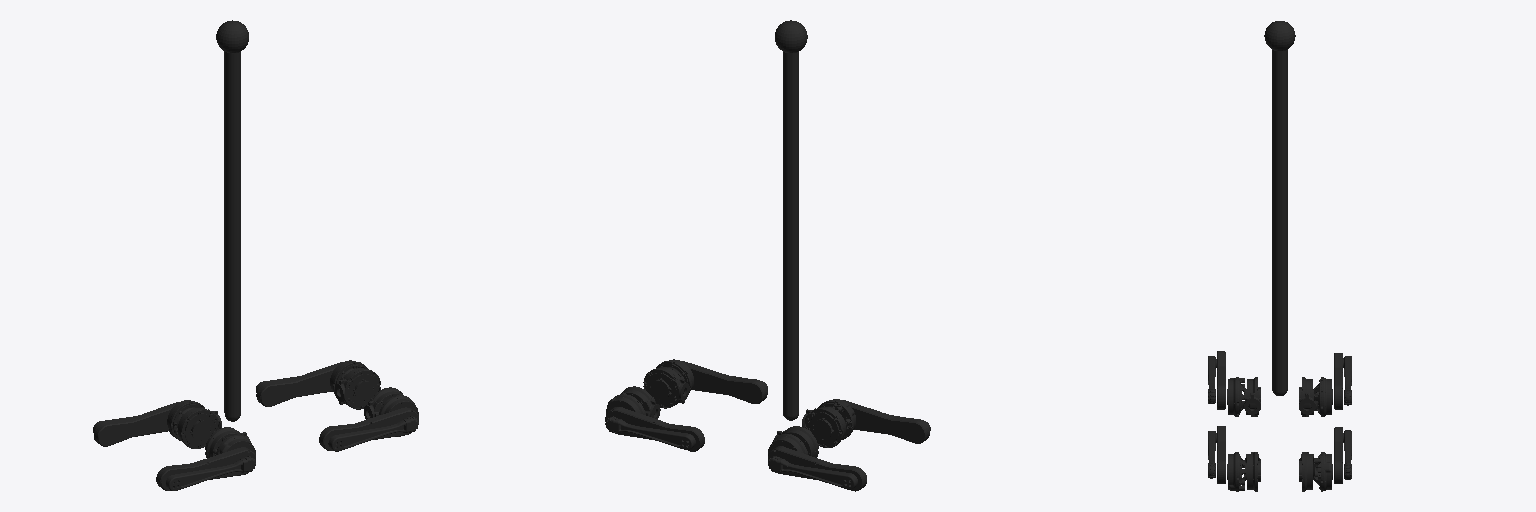
--- Render facts (derived) ---
Views: 3 orthographic renders of the robot side by side, from view 1: azimuth 30°, elevation 25°; view 2: azimuth 150°, elevation 25°; view 3: azimuth 270°, elevation 25°.
Robot: spirit — 20 links, 19 joints (14 revolute, 5 fixed); root link body; default pose: all joints at 0.
Visible links, largest first — view 1: tail_link_1, hip1, hip0, upper0, upper1, upper3, upper2, lower2, lower3, hip2, hip3, tail_mass; view 2: tail_link_1, hip3, hip2, upper3, upper2, upper1, upper0, lower0, lower1, hip0, hip1, tail_mass; view 3: tail_link_1, hip2, hip3, hip1, hip0, tail_mass, upper3.
Link boxes in pixels (x1,y1,x2,y2): tail_link_1: (224, 51, 240, 416); hip1: (167, 400, 221, 448); hip0: (330, 360, 380, 409); upper0: (256, 362, 341, 406); upper1: (94, 402, 178, 446); upper3: (156, 447, 255, 490); upper2: (319, 407, 418, 450); lower2: (328, 416, 418, 451); lower3: (166, 456, 255, 490); hip2: (364, 387, 418, 436); hip3: (205, 427, 255, 475); tail_mass: (216, 20, 248, 53); tail_link_1: (783, 52, 798, 415); hip3: (802, 399, 855, 447); hip2: (643, 359, 693, 408); upper3: (843, 400, 929, 443); upper2: (682, 361, 767, 403); upper1: (768, 446, 866, 491); upper0: (605, 407, 704, 451); lower0: (605, 416, 695, 449); lower1: (768, 456, 857, 489); hip0: (606, 386, 660, 418); hip1: (768, 426, 818, 457); tail_mass: (775, 20, 807, 52); tail_link_1: (1272, 50, 1287, 391); hip2: (1227, 452, 1260, 491); hip3: (1227, 377, 1260, 416); hip1: (1299, 377, 1332, 416); hip0: (1299, 452, 1332, 491); tail_mass: (1264, 21, 1295, 50); upper3: (1217, 351, 1225, 409).
Size in the robot's own frame: 0.7392 by 0.3719 by 1.14 metres.
12 mesh visuals loaded from 4 distinct referenced files (3 binary STL); not drawn: 1 (reference not matched to a file when rendering).

robot.urdf — spirit:
<?xml version="1.0" encoding="utf-8"?>
<!-- =================================================================================== -->
<!-- |    This document was autogenerated by xacro from spirit40_gaz.urdf.xacro        | -->
<!-- |    EDITING THIS FILE BY HAND IS NOT RECOMMENDED                                 | -->
<!-- =================================================================================== -->
<!--
 * Copyright (C) Ghost Robotics - All Rights Reserved
 * Unauthorized copying of this file, via any medium is strictly prohibited
 * Proprietary and confidential
 * Written by Avik De <[email redacted]> and Tom Jacobs <[email redacted]>
-->
<robot name="spirit">
  <!-- Define materials -->
  <material name="gray">
    <color rgba="0.2 0.2 0.2 1.0"/>
  </material>
  <material name="darkgray">
    <color rgba="0.1 0.1 0.1 1.0"/>
  </material>
  <material name="silver">
    <color rgba="0.3 0.3 0.3 1.0"/>
  </material>
  <material name="red">
    <color rgba="0.8 0.0 0.2 1.0"/>
  </material>
  <!-- Body -->
  <link name="body">
    <!--		<visual>-->
    <!--			<origin rpy="0 0 0" xyz="0 0 0"/>-->
    <!--			<geometry>-->
    <!--				<box size="${bodyLength} ${bodyWidth} ${bodyHeight}"/>-->
    <!--			</geometry>-->
    <!--			<material name="darkgray"/>-->
    <!--		</visual>-->
    <visual>
      <origin rpy="0 0 0" xyz="0.03 0 0"/>
      <geometry>
        <mesh filename="package://spirit_description/meshes/Spirit40_Body_Mesh_transformed.stl" scale="1 1 1"/>
      </geometry>
      <material name="gray"/>
    </visual>
    <inertial>
      <mass value="5.75"/>
      <!-- Uniform box -->
      <!-- <inertia ixx="1/12*${bodyMass}*(${bodyWidth}*${bodyWidth} + ${bodyHeight}*${bodyHeight})"  ixy="0"  ixz="0" iyy="1/12*${bodyMass}*(${bodyLength}*${bodyLength} + ${bodyHeight}*${bodyHeight})" iyz="0" izz="1/12*${bodyMass}*(${bodyLength}*${bodyLength} + ${bodyWidth}*${bodyWidth})"/> -->
      <inertia ixx="0.05" ixy="0" ixz="0" iyy="0.1" iyz="0" izz="0.1"/>
    </inertial>
    <!-- Just copy geometry for collision -->
    <collision>
      <origin rpy="0 0 0" xyz="0 0 0"/>
      <geometry>
        <box size="0.335 0.24 0.104"/>
      </geometry>
    </collision>
  </link>
  <gazebo reference="body">
    <gravity>true</gravity>
    <sensor name="imu_sensor" type="imu">
      <always_on>true</always_on>
      <visualize>true</visualize>
      <topic>__default_topic_</topic>
      <plugin filename="libgazebo_ros_imu_sensor.so" name="imu_plugin">
        <topicName>imu</topicName>
        <bodyName>body</bodyName>
        <updateRateHZ>500.0</updateRateHZ>
        <gaussianNoise>0.0</gaussianNoise>
        <xyzOffset>0 0 0</xyzOffset>
        <rpyOffset>0 0 0</rpyOffset>
        <frameName>body</frameName>
        <initialOrientationAsReference>true</initialOrientationAsReference>
      </plugin>
      <pose>0 0 0 0 0 0</pose>
    </sensor>
  </gazebo>
  <!-- Hip motor -->
  <link name="hip0">
    <!--			<visual>-->
    <!--				<origin rpy="${pi/2} 0 0" xyz="${front * 0} ${left * (dPodAxisToEdge)} 0"/>-->
    <!--				<geometry>-->
    <!--					<cylinder length="${podLength}" radius="${podRadius}"/>-->
    <!--				</geometry>-->
    <!--				<material name="${color}"/>-->
    <!--			</visual>-->
    <visual>
      <origin rpy="0 0 0" xyz="0 0.0 0"/>
      <geometry>
        <mesh filename="package://spirit_description/meshes/Spirit40_Hip_Module_transformed.stl" scale="1 1 1"/>
      </geometry>
      <material name="gray"/>
    </visual>
    <collision>
      <origin rpy="1.5707963268 0 0" xyz="0 0.028 0"/>
      <geometry>
        <cylinder length="0.08" radius="0.055"/>
      </geometry>
    </collision>
    <inertial>
      <mass value="0.575"/>
      <!-- <inertia ixx="1/12*${podMass}*${podLength}*${podLength} + 1/4*${podMass}*${podRadius}*${podRadius}"  ixy="0"  ixz="0" iyy="1/12*${podMass}*${podLength}*${podLength} + 1/4*${podMass}*${podRadius}*${podRadius}" iyz="0" izz="1/2*${podMass}*${podRadius}*$
				{podRadius}" /> -->
      <inertia ixx="0.00066963541" ixy="0" ixz="0" iyy="0.00066963541" iyz="0" izz="0.0008696875"/>
    </inertial>
  </link>
  <gazebo reference="hip0">
    <material>Gazebo/Gray</material>
  </gazebo>
  <!-- Abduction joint. Joint names are: 8 9 10 11 -->
  <joint name="8" type="revolute">
    <parent link="body"/>
    <child link="hip0"/>
    <axis xyz="1 0 0"/>
    <origin xyz="0.2263 0.07 0"/>
    <limit effort="40" lower="-0.707" upper="0.707" velocity="30"/>
    <dynamics damping="0.0" friction="0.0"/>
  </joint>
  <!-- Transmission elements required for Gazebo -->
  <transmission name="transmission_8">
    <type>transmission_interface/SimpleTransmission</type>
    <joint name="8">
      <hardwareInterface>hardware_interface/EffortJointInterface</hardwareInterface>
    </joint>
    <actuator name="motor_8">
      <hardwareInterface>EffortJointInterface</hardwareInterface>
      <mechanicalReduction>1</mechanicalReduction>
    </actuator>
  </transmission>
  <!-- Upper leg -->
  <link name="upper0">
    <!--			<visual>-->
    <!--				<origin rpy="0 0 0" xyz="-${upperLegLength/2} ${-left*upperLegWidth} 0"/>-->
    <!--				<geometry>-->
    <!--					<box size="${upperLegLength} ${upperLegWidth} ${upperLegHeight}"/>-->
    <!--				</geometry>-->
    <!--				<material name="silver"/>-->
    <!--			</visual>-->
    <visual>
      <origin rpy="0 0  0" xyz="0 -0.02 0"/>
      <geometry>
        <mesh filename="package://spirit_description/meshes/Spirit40_Upper_leg_transformed.stl" scale="1 1 1"/>
      </geometry>
      <material name="gray"/>
    </visual>
    <collision>
      <origin rpy="0 0 0" xyz="-0.103 -0.022 0"/>
      <geometry>
        <box size="0.206 0.022 0.055"/>
      </geometry>
    </collision>
    <inertial>
      <mass value="0.775"/>
      <inertia ixx="5e-05" ixy="0" ixz="0" iyy="0.001" iyz="0" izz="0.001"/>
    </inertial>
  </link>
  <gazebo reference="upper0">
    <material>Gazebo/Gray</material>
  </gazebo>
  <!-- Hip joint. (Motor to upper leg). Joint names are: 0 2 4 6 -->
  <joint name="0" type="revolute">
    <parent link="hip0"/>
    <child link="upper0"/>
    <axis xyz="0 -1 0"/>
    <origin xyz="0 0.10098 0"/>
    <!--  rpy="0 -0.3 0" -->
    <limit effort="40" lower="-6.28318530718" upper="6.28318530718" velocity="30"/>
    <dynamics damping="0.0" friction="0.0"/>
  </joint>
  <!-- Transmission elements required for Gazebo -->
  <transmission name="transmission_0">
    <type>transmission_interface/SimpleTransmission</type>
    <joint name="0">
      <hardwareInterface>hardware_interface/EffortJointInterface</hardwareInterface>
    </joint>
    <actuator name="motor_0">
      <hardwareInterface>EffortJointInterface</hardwareInterface>
      <mechanicalReduction>1</mechanicalReduction>
    </actuator>
  </transmission>
  <!-- Lower leg -->
  <link name="lower0">
    <!--			<visual>-->
    <!--				<origin rpy="0 ${pi/2} 0" xyz="${lowerLegLength/2} 0 0"/>-->
    <!--				<geometry>-->
    <!--					<cylinder length="${lowerLegLength}" radius="${lowerLegRadius}"/>-->
    <!--				</geometry>-->
    <!--				<material name="darkgray"/>-->
    <!--			</visual>-->
    <visual>
      <origin rpy="0 0  0" xyz="0 0 0"/>
      <geometry>
        <mesh filename="package://spirit_description/meshes/Spirit40_Lower_Leg_transformed.stl" scale="1 1 1"/>
      </geometry>
      <material name="gray"/>
    </visual>
    <collision>
      <origin rpy="0 1.5707963268 0" xyz="0.103 0 0"/>
      <geometry>
        <cylinder length="0.206" radius="0.013"/>
      </geometry>
    </collision>
    <inertial>
      <mass value="0.075"/>
      <inertia ixx="5e-06" ixy="0" ixz="0" iyy="0.0001" iyz="0" izz="0.0001"/>
    </inertial>
  </link>
  <gazebo reference="lower0">
    <material>Gazebo/Black</material>
  </gazebo>
  <!-- Knee joint. Joint names are: 1 3 5 7 -->
  <joint name="1" type="revolute">
    <parent link="upper0"/>
    <child link="lower0"/>
    <axis xyz="0 1 0"/>
    <origin xyz="-0.206 0 0"/>
    <!--rpy="0 0.5 0"-->
    <limit effort="40" lower="0" upper="3.14159265359" velocity="30"/>
    <dynamics damping="0.0" friction="0.0"/>
  </joint>
  <!-- Transmission elements required for Gazebo -->
  <transmission name="transmission_1">
    <type>transmission_interface/SimpleTransmission</type>
    <joint name="1">
      <hardwareInterface>hardware_interface/EffortJointInterface</hardwareInterface>
    </joint>
    <actuator name="motor_1">
      <hardwareInterface>EffortJointInterface</hardwareInterface>
      <mechanicalReduction>1</mechanicalReduction>
    </actuator>
  </transmission>
  <!-- Toe -->
  <link name="toe0">
    <contact>
      <friction_anchor/>
      <stiffness value="30000.0"/>
      <damping value="1000.0"/>
      <spinning_friction value="0.3"/>
      <lateral_friction value="50.0"/>
    </contact>
    <visual>
      <origin rpy="0 0 0" xyz="0 0 0"/>
      <geometry>
        <!--					<sphere radius="${toeRadius}"/>-->
        <sphere radius="0.001"/>
      </geometry>
      <material name="darkgray"/>
    </visual>
    <collision>
      <origin rpy="0 0 0" xyz="0 0 0"/>
      <geometry>
        <sphere radius="0.02"/>
      </geometry>
      <surface>
        <friction>
          <ode>
            <mu>100000</mu>
            <mu2>100000</mu2>
          </ode>
        </friction>
        <contact>
          <ode>
            <kp>30000.0</kp>
            <kd>1000.0</kd>
          </ode>
        </contact>
      </surface>
    </collision>
    <inertial>
      <mass value="0.015"/>
      <inertia ixx="0.000025" ixy="0" ixz="0" iyy="0.000025" iyz="0" izz="0.000025"/>
      <!-- <inertia ixx="2/5*${toeMass}*${toeRadius}*${toeRadius}"  ixy="0"  ixz="0" iyy="2/5*${toeMass}*${toeRadius}*${toeRadius}" iyz="0" izz="2/5*${toeMass}*${toeRadius}*${toeRadius}" /> -->
    </inertial>
  </link>
  <gazebo reference="toe0">
    <material>Gazebo/DarkGray</material>
    <collision>
      <surface>
        <bounce>
          <restitution_coefficient>0</restitution_coefficient>
          <threshold>1e+06</threshold>
        </bounce>
        <friction>
          <torsional>
            <coefficient>0.3</coefficient>
          </torsional>
          <ode>
            <mu>100.0</mu>
            <mu2>50.0</mu2>
          </ode>
          <bullet>
            <rolling_friction>0.3</rolling_friction>
            <friction2>50.0</friction2>
          </bullet>
        </friction>
        <contact>
          <bullet>
            <kp>30000.0</kp>
            <kd>1000.0</kd>
          </bullet>
          <ode>
            <kp>30000.0</kp>
            <kd>1000.0</kd>
          </ode>
        </contact>
      </surface>
    </collision>
  </gazebo>
  <joint name="jtoe0" type="fixed">
    <parent link="lower0"/>
    <child link="toe0"/>
    <origin xyz="0.206 0 -0.0"/>
    <dynamics damping="0.0" friction="0.0"/>
  </joint>
  <!-- Hip motor -->
  <link name="hip1">
    <!--			<visual>-->
    <!--				<origin rpy="${pi/2} 0 0" xyz="${front * 0} ${left * (dPodAxisToEdge)} 0"/>-->
    <!--				<geometry>-->
    <!--					<cylinder length="${podLength}" radius="${podRadius}"/>-->
    <!--				</geometry>-->
    <!--				<material name="${color}"/>-->
    <!--			</visual>-->
    <visual>
      <origin rpy="0 3.14159265359 0" xyz="0.0 0.0 0"/>
      <geometry>
        <mesh filename="package://spirit_description/meshes/Spirit40_Hip_Module_transformed.stl" scale="1 1 1"/>
      </geometry>
      <material name="gray"/>
    </visual>
    <collision>
      <origin rpy="1.5707963268 0 0" xyz="0 0.028 0"/>
      <geometry>
        <cylinder length="0.08" radius="0.055"/>
      </geometry>
    </collision>
    <inertial>
      <mass value="0.575"/>
      <!-- <inertia ixx="1/12*${podMass}*${podLength}*${podLength} + 1/4*${podMass}*${podRadius}*${podRadius}"  ixy="0"  ixz="0" iyy="1/12*${podMass}*${podLength}*${podLength} + 1/4*${podMass}*${podRadius}*${podRadius}" iyz="0" izz="1/2*${podMass}*${podRadius}*$
				{podRadius}" /> -->
      <inertia ixx="0.00066963541" ixy="0" ixz="0" iyy="0.00066963541" iyz="0" izz="0.0008696875"/>
    </inertial>
  </link>
  <gazebo reference="hip1">
    <material>Gazebo/Gray</material>
  </gazebo>
  <!-- Abduction joint. Joint names are: 8 9 10 11 -->
  <joint name="9" type="revolute">
    <parent link="body"/>
    <child link="hip1"/>
    <axis xyz="1 0 0"/>
    <origin xyz="-0.2263 0.07 0"/>
    <limit effort="40" lower="-0.707" upper="0.707" velocity="30"/>
    <dynamics damping="0.0" friction="0.0"/>
  </joint>
  <!-- Transmission elements required for Gazebo -->
  <transmission name="transmission_9">
    <type>transmission_interface/SimpleTransmission</type>
    <joint name="9">
      <hardwareInterface>hardware_interface/EffortJointInterface</hardwareInterface>
    </joint>
    <actuator name="motor_9">
      <hardwareInterface>EffortJointInterface</hardwareInterface>
      <mechanicalReduction>1</mechanicalReduction>
    </actuator>
  </transmission>
  <!-- Upper leg -->
  <link name="upper1">
    <!--			<visual>-->
    <!--				<origin rpy="0 0 0" xyz="-${upperLegLength/2} ${-left*upperLegWidth} 0"/>-->
    <!--				<geometry>-->
    <!--					<box size="${upperLegLength} ${upperLegWidth} ${upperLegHeight}"/>-->
    <!--				</geometry>-->
    <!--				<material name="silver"/>-->
    <!--			</visual>-->
    <visual>
      <origin rpy="0 0  0" xyz="0 -0.02 0"/>
      <geometry>
        <mesh filename="package://spirit_description/meshes/Spirit40_Upper_leg_transformed.stl" scale="1 1 1"/>
      </geometry>
      <material name="gray"/>
    </visual>
    <collision>
      <origin rpy="0 0 0" xyz="-0.103 -0.022 0"/>
      <geometry>
        <box size="0.206 0.022 0.055"/>
      </geometry>
    </collision>
    <inertial>
      <mass value="0.775"/>
      <inertia ixx="5e-05" ixy="0" ixz="0" iyy="0.001" iyz="0" izz="0.001"/>
    </inertial>
  </link>
  <gazebo reference="upper1">
    <material>Gazebo/Gray</material>
  </gazebo>
  <!-- Hip joint. (Motor to upper leg). Joint names are: 0 2 4 6 -->
  <joint name="2" type="revolute">
    <parent link="hip1"/>
    <child link="upper1"/>
    <axis xyz="0 -1 0"/>
    <origin xyz="0 0.10098 0"/>
    <!--  rpy="0 -0.3 0" -->
    <limit effort="40" lower="-6.28318530718" upper="6.28318530718" velocity="30"/>
    <dynamics damping="0.0" friction="0.0"/>
  </joint>
  <!-- Transmission elements required for Gazebo -->
  <transmission name="transmission_2">
    <type>transmission_interface/SimpleTransmission</type>
    <joint name="2">
      <hardwareInterface>hardware_interface/EffortJointInterface</hardwareInterface>
    </joint>
    <actuator name="motor_2">
      <hardwareInterface>EffortJointInterface</hardwareInterface>
      <mechanicalReduction>1</mechanicalReduction>
    </actuator>
  </transmission>
  <!-- Lower leg -->
  <link name="lower1">
    <!--			<visual>-->
    <!--				<origin rpy="0 ${pi/2} 0" xyz="${lowerLegLength/2} 0 0"/>-->
    <!--				<geometry>-->
    <!--					<cylinder length="${lowerLegLength}" radius="${lowerLegRadius}"/>-->
    <!--				</geometry>-->
    <!--				<material name="darkgray"/>-->
    <!--			</visual>-->
    <visual>
      <origin rpy="0 0  0" xyz="0 0 0"/>
      <geometry>
        <mesh filename="package://spirit_description/meshes/Spirit40_Lower_Leg_transformed.stl" scale="1 1 1"/>
      </geometry>
      <material name="gray"/>
    </visual>
    <collision>
      <origin rpy="0 1.5707963268 0" xyz="0.103 0 0"/>
      <geometry>
        <cylinder length="0.206" radius="0.013"/>
      </geometry>
    </collision>
    <inertial>
      <mass value="0.075"/>
      <inertia ixx="5e-06" ixy="0" ixz="0" iyy="0.0001" iyz="0" izz="0.0001"/>
    </inertial>
  </link>
  <gazebo reference="lower1">
    <material>Gazebo/Black</material>
  </gazebo>
  <!-- Knee joint. Joint names are: 1 3 5 7 -->
  <joint name="3" type="revolute">
    <parent link="upper1"/>
    <child link="lower1"/>
    <axis xyz="0 1 0"/>
    <origin xyz="-0.206 0 0"/>
    <!--rpy="0 0.5 0"-->
    <limit effort="40" lower="0" upper="3.14159265359" velocity="30"/>
    <dynamics damping="0.0" friction="0.0"/>
  </joint>
  <!-- Transmission elements required for Gazebo -->
  <transmission name="transmission_3">
    <type>transmission_interface/SimpleTransmission</type>
    <joint name="3">
      <hardwareInterface>hardware_interface/EffortJointInterface</hardwareInterface>
    </joint>
    <actuator name="motor_3">
      <hardwareInterface>EffortJointInterface</hardwareInterface>
      <mechanicalReduction>1</mechanicalReduction>
    </actuator>
  </transmission>
  <!-- Toe -->
  <link name="toe1">
    <contact>
      <friction_anchor/>
      <stiffness value="30000.0"/>
      <damping value="1000.0"/>
      <spinning_friction value="0.3"/>
      <lateral_friction value="50.0"/>
    </contact>
    <visual>
      <origin rpy="0 0 0" xyz="0 0 0"/>
      <geometry>
        <!--					<sphere radius="${toeRadius}"/>-->
        <sphere radius="0.001"/>
      </geometry>
      <material name="darkgray"/>
    </visual>
    <collision>
      <origin rpy="0 0 0" xyz="0 0 0"/>
      <geometry>
        <sphere radius="0.02"/>
      </geometry>
      <surface>
        <friction>
          <ode>
            <mu>100000</mu>
            <mu2>100000</mu2>
          </ode>
        </friction>
        <contact>
          <ode>
            <kp>30000.0</kp>
            <kd>1000.0</kd>
          </ode>
        </contact>
      </surface>
    </collision>
    <inertial>
      <mass value="0.015"/>
      <inertia ixx="0.000025" ixy="0" ixz="0" iyy="0.000025" iyz="0" izz="0.000025"/>
      <!-- <inertia ixx="2/5*${toeMass}*${toeRadius}*${toeRadius}"  ixy="0"  ixz="0" iyy="2/5*${toeMass}*${toeRadius}*${toeRadius}" iyz="0" izz="2/5*${toeMass}*${toeRadius}*${toeRadius}" /> -->
    </inertial>
  </link>
  <gazebo reference="toe1">
    <material>Gazebo/DarkGray</material>
    <collision>
      <surface>
        <bounce>
          <restitution_coefficient>0</restitution_coefficient>
          <threshold>1e+06</threshold>
        </bounce>
        <friction>
          <torsional>
            <coefficient>0.3</coefficient>
          </torsional>
          <ode>
            <mu>100.0</mu>
            <mu2>50.0</mu2>
          </ode>
          <bullet>
            <rolling_friction>0.3</rolling_friction>
            <friction2>50.0</friction2>
          </bullet>
        </friction>
        <contact>
          <bullet>
            <kp>30000.0</kp>
            <kd>1000.0</kd>
          </bullet>
          <ode>
            <kp>30000.0</kp>
            <kd>1000.0</kd>
          </ode>
        </contact>
      </surface>
    </collision>
  </gazebo>
  <joint name="jtoe1" type="fixed">
    <parent link="lower1"/>
    <child link="toe1"/>
    <origin xyz="0.206 0 -0.0"/>
    <dynamics damping="0.0" friction="0.0"/>
  </joint>
  <!-- Hip motor -->
  <link name="hip2">
    <!--			<visual>-->
    <!--				<origin rpy="${pi/2} 0 0" xyz="${front * 0} ${left * (dPodAxisToEdge)} 0"/>-->
    <!--				<geometry>-->
    <!--					<cylinder length="${podLength}" radius="${podRadius}"/>-->
    <!--				</geometry>-->
    <!--				<material name="${color}"/>-->
    <!--			</visual>-->
    <visual>
      <origin rpy="3.14159265359 0 0" xyz="0.0 0 0.0"/>
      <geometry>
        <mesh filename="package://spirit_description/meshes/Spirit40_Hip_Module_transformed.stl" scale="1 1 1"/>
      </geometry>
      <material name="gray"/>
    </visual>
    <collision>
      <origin rpy="1.5707963268 0 0" xyz="0 -0.028 0"/>
      <geometry>
        <cylinder length="0.08" radius="0.055"/>
      </geometry>
    </collision>
    <inertial>
      <mass value="0.575"/>
      <!-- <inertia ixx="1/12*${podMass}*${podLength}*${podLength} + 1/4*${podMass}*${podRadius}*${podRadius}"  ixy="0"  ixz="0" iyy="1/12*${podMass}*${podLength}*${podLength} + 1/4*${podMass}*${podRadius}*${podRadius}" iyz="0" izz="1/2*${podMass}*${podRadius}*$
				{podRadius}" /> -->
      <inertia ixx="0.00066963541" ixy="0" ixz="0" iyy="0.00066963541" iyz="0" izz="0.0008696875"/>
    </inertial>
  </link>
  <gazebo reference="hip2">
    <material>Gazebo/Gray</material>
  </gazebo>
  <!-- Abduction joint. Joint names are: 8 9 10 11 -->
  <joint name="10" type="revolute">
    <parent link="body"/>
    <child link="hip2"/>
    <axis xyz="1 0 0"/>
    <origin xyz="0.2263 -0.07 0"/>
    <limit effort="40" lower="-0.707" upper="0.707" velocity="30"/>
    <dynamics damping="0.0" friction="0.0"/>
  </joint>
  <!-- Transmission elements required for Gazebo -->
  <transmission name="transmission_10">
    <type>transmission_interface/SimpleTransmission</type>
    <joint name="10">
      <hardwareInterface>hardware_interface/EffortJointInterface</hardwareInterface>
    </joint>
    <actuator name="motor_10">
      <hardwareInterface>EffortJointInterface</hardwareInterface>
      <mechanicalReduction>1</mechanicalReduction>
    </actuator>
  </transmission>
  <!-- Upper leg -->
  <link name="upper2">
    <!--			<visual>-->
    <!--				<origin rpy="0 0 0" xyz="-${upperLegLength/2} ${-left*upperLegWidth} 0"/>-->
    <!--				<geometry>-->
    <!--					<box size="${upperLegLength} ${upperLegWidth} ${upperLegHeight}"/>-->
    <!--				</geometry>-->
    <!--				<material name="silver"/>-->
    <!--			</visual>-->
    <visual>
      <origin rpy="3.14159265359 0  0" xyz="0 0.02 0"/>
      <geometry>
        <mesh filename="package://spirit_description/meshes/Spirit40_Upper_leg_transformed.stl" scale="1 1 1"/>
      </geometry>
      <material name="gray"/>
    </visual>
    <collision>
      <origin rpy="0 0 0" xyz="-0.103 0.022 0"/>
      <geometry>
        <box size="0.206 0.022 0.055"/>
      </geometry>
    </collision>
    <inertial>
      <mass value="0.775"/>
      <inertia ixx="5e-05" ixy="0" ixz="0" iyy="0.001" iyz="0" izz="0.001"/>
    </inertial>
  </link>
  <gazebo reference="upper2">
    <material>Gazebo/Gray</material>
  </gazebo>
  <!-- Hip joint. (Motor to upper leg). Joint names are: 0 2 4 6 -->
  <joint name="4" type="revolute">
    <parent link="hip2"/>
    <child link="upper2"/>
    <axis xyz="0 -1 0"/>
    <origin xyz="0 -0.10098 0"/>
    <!--  rpy="0 -0.3 0" -->
    <limit effort="40" lower="-6.28318530718" upper="6.28318530718" velocity="30"/>
    <dynamics damping="0.0" friction="0.0"/>
  </joint>
  <!-- Transmission elements required for Gazebo -->
  <transmission name="transmission_4">
    <type>transmission_interface/SimpleTransmission</type>
    <joint name="4">
      <hardwareInterface>hardware_interface/EffortJointInterface</hardwareInterface>
    </joint>
    <actuator name="motor_4">
      <hardwareInterface>EffortJointInterface</hardwareInterface>
      <mechanicalReduction>1</mechanicalReduction>
    </actuator>
  </transmission>
  <!-- Lower leg -->
  <link name="lower2">
    <!--			<visual>-->
    <!--				<origin rpy="0 ${pi/2} 0" xyz="${lowerLegLength/2} 0 0"/>-->
    <!--				<geometry>-->
    <!--					<cylinder length="${lowerLegLength}" radius="${lowerLegRadius}"/>-->
    <!--				</geometry>-->
    <!--				<material name="darkgray"/>-->
    <!--			</visual>-->
    <visual>
      <origin rpy="3.14159265359 0  0" xyz="0 0 0"/>
      <geometry>
        <mesh filename="package://spirit_description/meshes/Spirit40_Lower_Leg_transformed.stl" scale="1 1 1"/>
      </geometry>
      <material name="gray"/>
    </visual>
    <collision>
      <origin rpy="0 1.5707963268 0" xyz="0.103 0 0"/>
      <geometry>
        <cylinder length="0.206" radius="0.013"/>
      </geometry>
    </collision>
    <inertial>
      <mass value="0.075"/>
      <inertia ixx="5e-06" ixy="0" ixz="0" iyy="0.0001" iyz="0" izz="0.0001"/>
    </inertial>
  </link>
  <gazebo reference="lower2">
    <material>Gazebo/Black</material>
  </gazebo>
  <!-- Knee joint. Joint names are: 1 3 5 7 -->
  <joint name="5" type="revolute">
    <parent link="upper2"/>
    <child link="lower2"/>
    <axis xyz="0 1 0"/>
    <origin xyz="-0.206 0 0"/>
    <!--rpy="0 0.5 0"-->
    <limit effort="40" lower="0" upper="3.14159265359" velocity="30"/>
    <dynamics damping="0.0" friction="0.0"/>
  </joint>
  <!-- Transmission elements required for Gazebo -->
  <transmission name="transmission_5">
    <type>transmission_interface/SimpleTransmission</type>
    <joint name="5">
      <hardwareInterface>hardware_interface/EffortJointInterface</hardwareInterface>
    </joint>
    <actuator name="motor_5">
      <hardwareInterface>EffortJointInterface</hardwareInterface>
      <mechanicalReduction>1</mechanicalReduction>
    </actuator>
  </transmission>
  <!-- Toe -->
  <link name="toe2">
    <contact>
      <friction_anchor/>
      <stiffness value="30000.0"/>
      <damping value="1000.0"/>
      <spinning_friction value="0.3"/>
      <lateral_friction value="50.0"/>
    </contact>
    <visual>
      <origin rpy="0 0 0" xyz="0 0 0"/>
      <geometry>
        <!--					<sphere radius="${toeRadius}"/>-->
        <sphere radius="0.001"/>
      </geometry>
      <material name="darkgray"/>
    </visual>
    <collision>
      <origin rpy="0 0 0" xyz="0 0 0"/>
      <geometry>
        <sphere radius="0.02"/>
      </geometry>
      <surface>
        <friction>
          <ode>
            <mu>100000</mu>
            <mu2>100000</mu2>
          </ode>
        </friction>
        <contact>
          <ode>
            <kp>30000.0</kp>
            <kd>1000.0</kd>
          </ode>
        </contact>
      </surface>
    </collision>
    <inertial>
      <mass value="0.015"/>
      <inertia ixx="0.000025" ixy="0" ixz="0" iyy="0.000025" iyz="0" izz="0.000025"/>
      <!-- <inertia ixx="2/5*${toeMass}*${toeRadius}*${toeRadius}"  ixy="0"  ixz="0" iyy="2/5*${toeMass}*${toeRadius}*${toeRadius}" iyz="0" izz="2/5*${toeMass}*${toeRadius}*${toeRadius}" /> -->
    </inertial>
  </link>
  <gazebo reference="toe2">
    <material>Gazebo/DarkGray</material>
    <collision>
      <surface>
        <bounce>
          <restitution_coefficient>0</restitution_coefficient>
          <threshold>1e+06</threshold>
        </bounce>
        <friction>
          <torsional>
            <coefficient>0.3</coefficient>
          </torsional>
          <ode>
            <mu>100.0</mu>
            <mu2>50.0</mu2>
          </ode>
          <bullet>
            <rolling_friction>0.3</rolling_friction>
            <friction2>50.0</friction2>
          </bullet>
        </friction>
        <contact>
          <bullet>
            <kp>30000.0</kp>
            <kd>1000.0</kd>
          </bullet>
          <ode>
            <kp>30000.0</kp>
            <kd>1000.0</kd>
          </ode>
        </contact>
      </surface>
    </collision>
  </gazebo>
  <joint name="jtoe2" type="fixed">
    <parent link="lower2"/>
    <child link="toe2"/>
    <origin xyz="0.206 0 -0.0"/>
    <dynamics damping="0.0" friction="0.0"/>
  </joint>
  <!-- Hip motor -->
  <link name="hip3">
    <!--			<visual>-->
    <!--				<origin rpy="${pi/2} 0 0" xyz="${front * 0} ${left * (dPodAxisToEdge)} 0"/>-->
    <!--				<geometry>-->
    <!--					<cylinder length="${podLength}" radius="${podRadius}"/>-->
    <!--				</geometry>-->
    <!--				<material name="${color}"/>-->
    <!--			</visual>-->
    <visual>
      <origin rpy="3.14159265359 3.14159265359 0" xyz="0.0 0.0 0.0"/>
      <geometry>
        <mesh filename="package://spirit_description/meshes/Spirit40_Hip_Module_transformed.stl" scale="1 1 1"/>
      </geometry>
      <material name="gray"/>
    </visual>
    <collision>
      <origin rpy="1.5707963268 0 0" xyz="0 -0.028 0"/>
      <geometry>
        <cylinder length="0.08" radius="0.055"/>
      </geometry>
    </collision>
    <inertial>
      <mass value="0.575"/>
      <!-- <inertia ixx="1/12*${podMass}*${podLength}*${podLength} + 1/4*${podMass}*${podRadius}*${podRadius}"  ixy="0"  ixz="0" iyy="1/12*${podMass}*${podLength}*${podLength} + 1/4*${podMass}*${podRadius}*${podRadius}" iyz="0" izz="1/2*${podMass}*${podRadius}*$
				{podRadius}" /> -->
      <inertia ixx="0.00066963541" ixy="0" ixz="0" iyy="0.00066963541" iyz="0" izz="0.0008696875"/>
    </inertial>
  </link>
  <gazebo reference="hip3">
    <material>Gazebo/Gray</material>
  </gazebo>
  <!-- Abduction joint. Joint names are: 8 9 10 11 -->
  <joint name="11" type="revolute">
    <parent link="body"/>
    <child link="hip3"/>
    <axis xyz="1 0 0"/>
    <origin xyz="-0.2263 -0.07 0"/>
    <limit effort="40" lower="-0.707" upper="0.707" velocity="30"/>
    <dynamics damping="0.0" friction="0.0"/>
  </joint>
  <!-- Transmission elements required for Gazebo -->
  <transmission name="transmission_11">
    <type>transmission_interface/SimpleTransmission</type>
    <joint name="11">
      <hardwareInterface>hardware_interface/EffortJointInterface</hardwareInterface>
    </joint>
    <actuator name="motor_11">
      <hardwareInterface>EffortJointInterface</hardwareInterface>
      <mechanicalReduction>1</mechanicalReduction>
    </actuator>
  </transmission>
  <!-- Upper leg -->
  <link name="upper3">
    <!--			<visual>-->
    <!--				<origin rpy="0 0 0" xyz="-${upperLegLength/2} ${-left*upperLegWidth} 0"/>-->
    <!--				<geometry>-->
    <!--					<box size="${upperLegLength} ${upperLegWidth} ${upperLegHeight}"/>-->
    <!--				</geometry>-->
    <!--				<material name="silver"/>-->
    <!--			</visual>-->
    <visual>
      <origin rpy="3.14159265359 0  0" xyz="0 0.02 0"/>
      <geometry>
        <mesh filename="package://spirit_description/meshes/Spirit40_Upper_leg_transformed.stl" scale="1 1 1"/>
      </geometry>
      <material name="gray"/>
    </visual>
    <collision>
      <origin rpy="0 0 0" xyz="-0.103 0.022 0"/>
      <geometry>
        <box size="0.206 0.022 0.055"/>
      </geometry>
    </collision>
    <inertial>
      <mass value="0.775"/>
      <inertia ixx="5e-05" ixy="0" ixz="0" iyy="0.001" iyz="0" izz="0.001"/>
    </inertial>
  </link>
  <gazebo reference="upper3">
    <material>Gazebo/Gray</material>
  </gazebo>
  <!-- Hip joint. (Motor to upper leg). Joint names are: 0 2 4 6 -->
  <joint name="6" type="revolute">
    <parent link="hip3"/>
    <child link="upper3"/>
    <axis xyz="0 -1 0"/>
    <origin xyz="0 -0.10098 0"/>
    <!--  rpy="0 -0.3 0" -->
    <limit effort="40" lower="-6.28318530718" upper="6.28318530718" velocity="30"/>
    <dynamics damping="0.0" friction="0.0"/>
  </joint>
  <!-- Transmission elements required for Gazebo -->
  <transmission name="transmission_6">
    <type>transmission_interface/SimpleTransmission</type>
    <joint name="6">
      <hardwareInterface>hardware_interface/EffortJointInterface</hardwareInterface>
    </joint>
    <actuator name="motor_6">
      <hardwareInterface>EffortJointInterface</hardwareInterface>
      <mechanicalReduction>1</mechanicalReduction>
    </actuator>
  </transmission>
  <!-- Lower leg -->
  <link name="lower3">
    <!--			<visual>-->
    <!--				<origin rpy="0 ${pi/2} 0" xyz="${lowerLegLength/2} 0 0"/>-->
    <!--				<geometry>-->
    <!--					<cylinder length="${lowerLegLength}" radius="${lowerLegRadius}"/>-->
    <!--				</geometry>-->
    <!--				<material name="darkgray"/>-->
    <!--			</visual>-->
    <visual>
      <origin rpy="3.14159265359 0  0" xyz="0 0 0"/>
      <geometry>
        <mesh filename="package://spirit_description/meshes/Spirit40_Lower_Leg_transformed.stl" scale="1 1 1"/>
      </geometry>
      <material name="gray"/>
    </visual>
    <collision>
      <origin rpy="0 1.5707963268 0" xyz="0.103 0 0"/>
      <geometry>
        <cylinder length="0.206" radius="0.013"/>
      </geometry>
    </collision>
    <inertial>
      <mass value="0.075"/>
      <inertia ixx="5e-06" ixy="0" ixz="0" iyy="0.0001" iyz="0" izz="0.0001"/>
    </inertial>
  </link>
  <gazebo reference="lower3">
    <material>Gazebo/Black</material>
  </gazebo>
  <!-- Knee joint. Joint names are: 1 3 5 7 -->
  <joint name="7" type="revolute">
    <parent link="upper3"/>
    <child link="lower3"/>
    <axis xyz="0 1 0"/>
    <origin xyz="-0.206 0 0"/>
    <!--rpy="0 0.5 0"-->
    <limit effort="40" lower="0" upper="3.14159265359" velocity="30"/>
    <dynamics damping="0.0" friction="0.0"/>
  </joint>
  <!-- Transmission elements required for Gazebo -->
  <transmission name="transmission_7">
    <type>transmission_interface/SimpleTransmission</type>
    <joint name="7">
      <hardwareInterface>hardware_interface/EffortJointInterface</hardwareInterface>
    </joint>
    <actuator name="motor_7">
      <hardwareInterface>EffortJointInterface</hardwareInterface>
      <mechanicalReduction>1</mechanicalReduction>
    </actuator>
  </transmission>
  <!-- Toe -->
  <link name="toe3">
    <contact>
      <friction_anchor/>
      <stiffness value="30000.0"/>
      <damping value="1000.0"/>
      <spinning_friction value="0.3"/>
      <lateral_friction value="50.0"/>
    </contact>
    <visual>
      <origin rpy="0 0 0" xyz="0 0 0"/>
      <geometry>
        <!--					<sphere radius="${toeRadius}"/>-->
        <sphere radius="0.001"/>
      </geometry>
      <material name="darkgray"/>
    </visual>
    <collision>
      <origin rpy="0 0 0" xyz="0 0 0"/>
      <geometry>
        <sphere radius="0.02"/>
      </geometry>
      <surface>
        <friction>
          <ode>
            <mu>100000</mu>
            <mu2>100000</mu2>
          </ode>
        </friction>
        <contact>
          <ode>
            <kp>30000.0</kp>
            <kd>1000.0</kd>
          </ode>
        </contact>
      </surface>
    </collision>
    <inertial>
      <mass value="0.015"/>
      <inertia ixx="0.000025" ixy="0" ixz="0" iyy="0.000025" iyz="0" izz="0.000025"/>
      <!-- <inertia ixx="2/5*${toeMass}*${toeRadius}*${toeRadius}"  ixy="0"  ixz="0" iyy="2/5*${toeMass}*${toeRadius}*${toeRadius}" iyz="0" izz="2/5*${toeMass}*${toeRadius}*${toeRadius}" /> -->
    </inertial>
  </link>
  <gazebo reference="toe3">
    <material>Gazebo/DarkGray</material>
    <collision>
      <surface>
        <bounce>
          <restitution_coefficient>0</restitution_coefficient>
          <threshold>1e+06</threshold>
        </bounce>
        <friction>
          <torsional>
            <coefficient>0.3</coefficient>
          </torsional>
          <ode>
            <mu>100.0</mu>
            <mu2>50.0</mu2>
          </ode>
          <bullet>
            <rolling_friction>0.3</rolling_friction>
            <friction2>50.0</friction2>
          </bullet>
        </friction>
        <contact>
          <bullet>
            <kp>30000.0</kp>
            <kd>1000.0</kd>
          </bullet>
          <ode>
            <kp>30000.0</kp>
            <kd>1000.0</kd>
          </ode>
        </contact>
      </surface>
    </collision>
  </gazebo>
  <joint name="jtoe3" type="fixed">
    <parent link="lower3"/>
    <child link="toe3"/>
    <origin xyz="0.206 0 -0.0"/>
    <dynamics damping="0.0" friction="0.0"/>
  </joint>

  <!-- Tail link -->
  <link name="tail_link_0">
    <visual>
      <origin rpy="0 0 0" xyz="0 0 0"/>
      <geometry>
        <sphere radius="0.02"/>
      </geometry>
      <material name="gray"/>
    </visual>
    <collision>
      <origin rpy="0 0 0" xyz="0 0 0"/>
      <geometry>
        <sphere radius="0.02"/>
      </geometry>
    </collision>
    <inertial>
      <mass value="1e-03"/>
      <inertia ixx="1e-04" ixy="0" ixz="0" iyy="1e-04" iyz="0" izz="1e-04"/>
    </inertial>
  </link>
  <gazebo reference="tail_link_0">
    <material>Gazebo/Gray</material>
  </gazebo>
  <link name="tail_link_1">
    <visual>
      <origin rpy="0 0 0" xyz="0 0 0.5"/>
      <geometry>
        <cylinder length="1" radius="0.02"/>
      </geometry>
      <material name="gray"/>
    </visual>
    <collision>
      <origin rpy="0 0 0" xyz="0 0 0.5"/>
      <geometry>
        <cylinder length="1" radius="0.02"/>
      </geometry>
    </collision>
    <inertial>
      <mass value="0.025"/>
      <inertia ixx="0.00364583" ixy="0" ixz="0" iyy="0.00364583" iyz="0" izz="0.003125"/>
    </inertial>
  </link>
  <gazebo reference="tail_link_1">
    <material>Gazebo/Gray</material>
  </gazebo>
  <link name="tail_mass">
    <visual>
      <origin rpy="0 0 0" xyz="0 0 0"/>
      <geometry>
        <sphere radius="0.04"/>
      </geometry>
      <material name="gray"/>
    </visual>
    <collision>
      <origin rpy="0 0 0" xyz="0 0 0"/>
      <geometry>
        <sphere radius="0.04"/>
      </geometry>
    </collision>
    <inertial>
      <mass value="0.25"/>
      <inertia ixx="0.025" ixy="0" ixz="0" iyy="0.025" iyz="0" izz="0.025"/>
    </inertial>
  </link>
  <gazebo reference="tail_mass">
    <material>Gazebo/Gray</material>
  </gazebo>

  <!-- Tail joint -->
  <joint name="body_tail_joint_0" type="revolute">
    <parent link="body"/>
    <child link="tail_link_0"/>
    <axis xyz="1 0 0"/>
    <origin xyz="-0.1675 0 0.052"/>
    <limit effort="10" lower="-1.79769e+308" upper="1.79769e+308" velocity="30"/>
    <dynamics damping="0.0" friction="0.0"/>
  </joint>
  <!-- Transmission elements required for Gazebo -->
  <transmission name="transmission_body_tail_joint_0">
    <type>transmission_interface/SimpleTransmission</type>
    <joint name="body_tail_joint_0">
      <hardwareInterface>hardware_interface/EffortJointInterface</hardwareInterface>
    </joint>
    <actuator name="motor_body_tail_joint_0">
      <hardwareInterface>EffortJointInterface</hardwareInterface>
      <mechanicalReduction>1</mechanicalReduction>
    </actuator>
  </transmission>
  <joint name="body_tail_joint_1" type="revolute">
    <parent link="tail_link_0"/>
    <child link="tail_link_1"/>
    <axis xyz="0 1 0"/>
    <origin xyz="0 0 0"/>
    <limit effort="10" lower="-3.14159" upper="1.57080" velocity="30"/>
    <dynamics damping="0.0" friction="0.0"/>
  </joint>
  <!-- Transmission elements required for Gazebo -->
  <transmission name="transmission_body_tail_joint_1">
    <type>transmission_interface/SimpleTransmission</type>
    <joint name="body_tail_joint_1">
      <hardwareInterface>hardware_interface/EffortJointInterface</hardwareInterface>
    </joint>
    <actuator name="motor_body_tail_joint_1">
      <hardwareInterface>EffortJointInterface</hardwareInterface>
      <mechanicalReduction>1</mechanicalReduction>
    </actuator>
  </transmission>
  <joint name="tail_link_mass_joint" type="fixed">
    <parent link="tail_link_1"/>
    <child link="tail_mass"/>
    <origin xyz="0 0 1"/>
    <dynamics damping="0.0" friction="0.0"/>
  </joint>
</robot>
